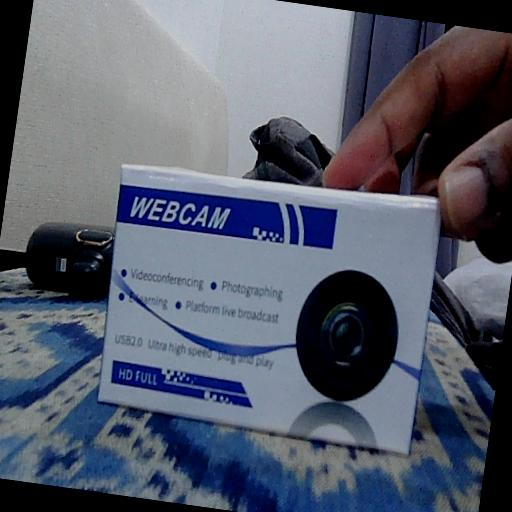webcam_box: (90, 156, 448, 456)
